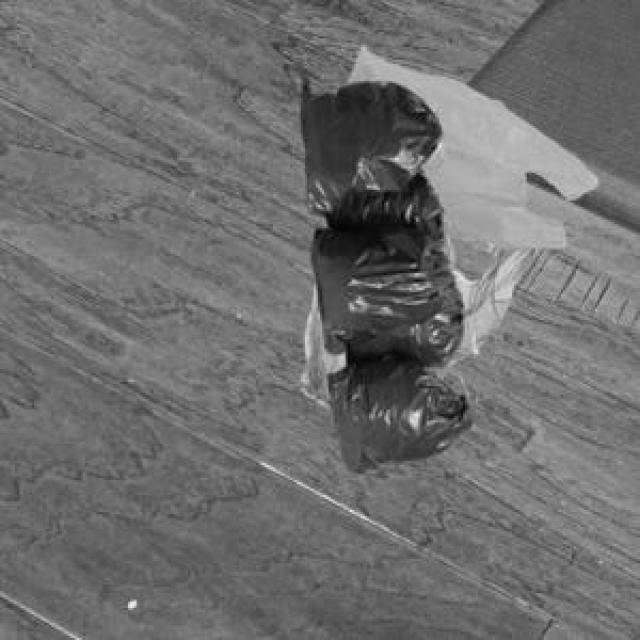miscellaneous trash: (297, 70, 474, 474)
